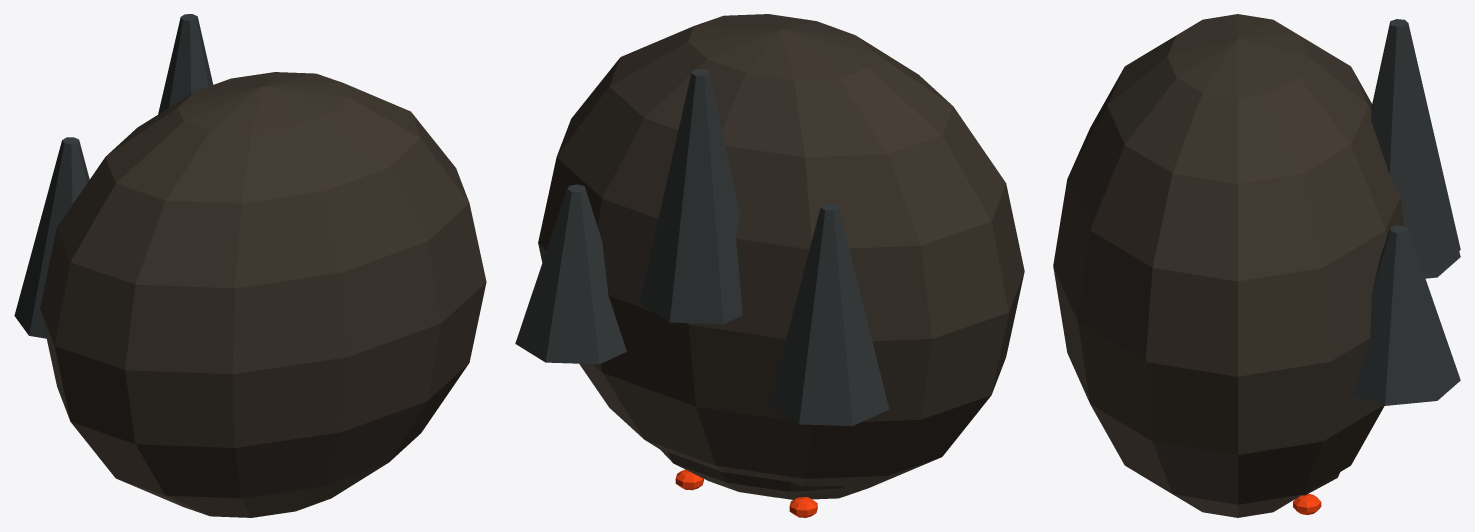
Rendered from Slagmite.glb.
The picture shows the model from 3 angles, left to right: view 1: azimuth 30°, elevation 25°; view 2: azimuth 150°, elevation 25°; view 3: azimuth 270°, elevation 25°; orthographic projection. The views are drawn at different scales.
Visible parts, largest first — view 1: Body, SlagSpire1, SlagSpire3; view 2: Body, SlagSpire3, SlagSpire1, SlagSpire2, Head; view 3: Body, SlagSpire2, SlagSpire3, EyeR.
Part boxes in pixels (x1,y1,x2,y2): Body: (40,72,486,517); SlagSpire1: (14,137,89,338); SlagSpire3: (158,14,213,114); Body: (538,14,1024,499); SlagSpire3: (639,68,742,324); SlagSpire1: (768,203,889,425); SlagSpire2: (515,184,626,364); Head: (661,450,842,497); Body: (1053,14,1403,517); SlagSpire2: (1353,225,1460,405); SlagSpire3: (1371,19,1460,271); EyeR: (1293,494,1321,514).
Bounding box in the file's own units: 4.4 × 4.35 × 3.42.
Materials: 1 (1 with a texture image).
